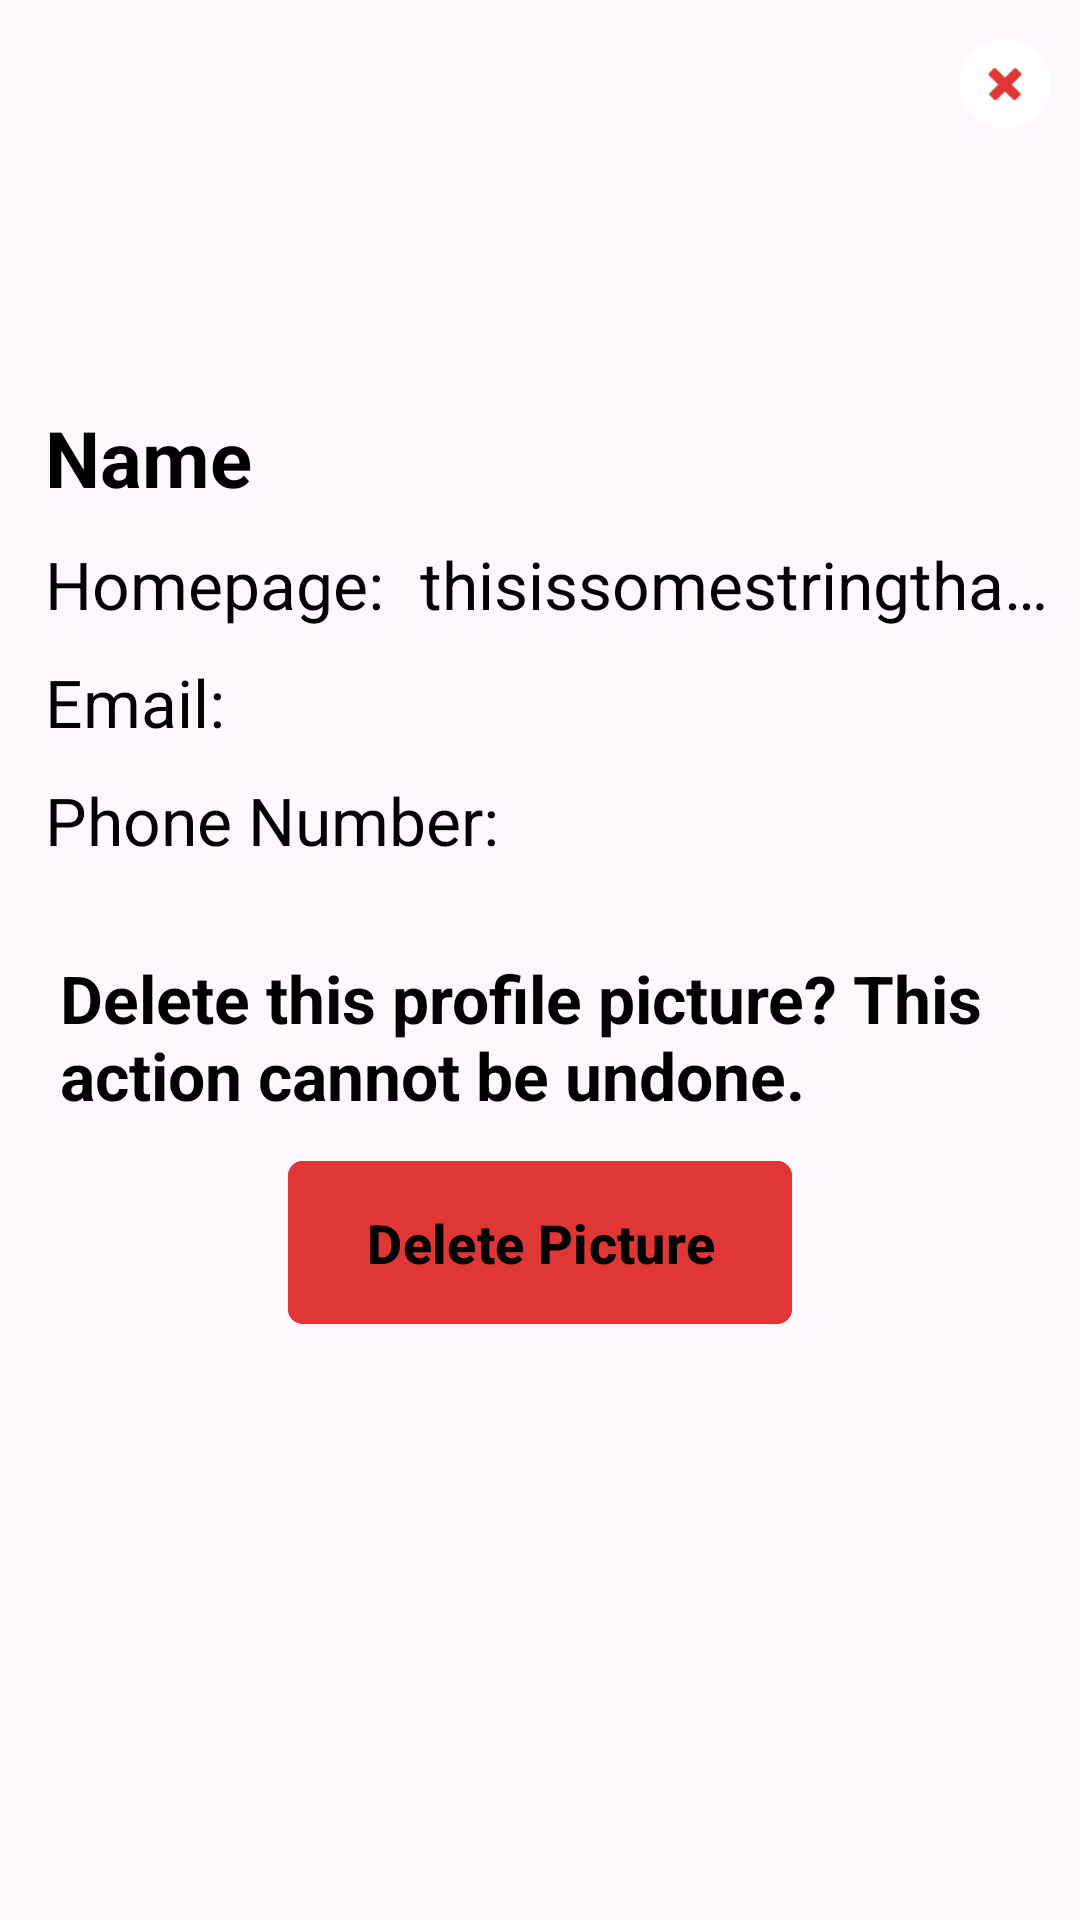

Where icons sit on this 1080w x 1920h app screen, as (x1, y1, x2, y2):
delete: (988, 68, 1022, 101)
